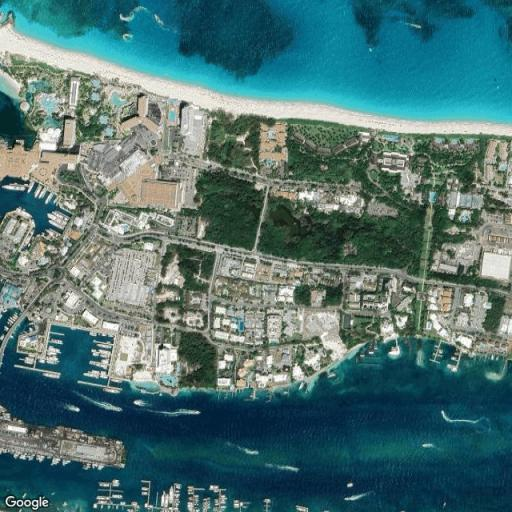ship: (93, 480, 139, 511), (75, 393, 122, 411), (356, 344, 382, 367), (441, 411, 486, 424), (161, 484, 180, 511), (209, 484, 227, 511), (230, 441, 259, 455), (187, 486, 203, 511), (48, 212, 68, 229), (447, 350, 462, 372), (265, 463, 299, 472), (119, 7, 140, 21), (48, 213, 64, 230), (170, 484, 181, 508), (344, 492, 372, 501), (48, 213, 62, 229), (93, 496, 110, 509), (388, 341, 400, 358), (400, 20, 421, 29), (122, 501, 139, 512), (216, 495, 227, 511), (2, 184, 27, 191), (172, 409, 200, 415), (54, 211, 68, 223), (233, 500, 248, 511), (89, 360, 107, 369), (7, 313, 18, 327), (0, 407, 11, 420), (46, 228, 59, 239), (96, 495, 111, 504), (35, 185, 45, 198), (160, 492, 168, 508), (96, 341, 111, 349), (209, 484, 224, 492), (154, 14, 163, 27), (47, 346, 60, 355), (202, 497, 210, 511), (6, 317, 17, 327), (84, 371, 99, 378), (37, 185, 45, 198), (35, 185, 43, 198), (46, 356, 59, 364), (103, 387, 120, 393), (36, 354, 46, 364), (45, 192, 54, 203), (39, 187, 47, 199), (44, 372, 60, 378), (264, 498, 271, 511), (134, 400, 147, 407), (98, 349, 111, 356), (66, 404, 79, 411), (187, 485, 196, 495), (138, 388, 153, 394), (23, 356, 35, 363), (100, 360, 109, 369), (28, 181, 35, 192), (40, 188, 47, 199), (233, 500, 242, 508), (296, 505, 308, 511), (300, 381, 307, 391), (49, 339, 63, 344), (112, 492, 122, 499), (111, 377, 122, 383), (327, 370, 335, 378), (52, 457, 60, 465), (188, 410, 200, 415), (54, 196, 60, 206), (99, 482, 111, 487), (83, 463, 91, 470), (142, 487, 148, 496), (92, 349, 99, 356), (100, 372, 107, 379), (112, 480, 119, 487), (96, 464, 104, 470), (101, 358, 109, 364), (36, 456, 45, 461), (53, 348, 60, 354), (20, 453, 27, 459), (7, 319, 13, 326), (62, 460, 70, 465), (90, 331, 98, 336), (347, 481, 353, 487), (422, 444, 434, 447), (13, 452, 19, 458), (368, 45, 373, 52), (27, 455, 34, 460), (491, 355, 494, 360), (4, 326, 7, 331), (322, 509, 329, 511)
